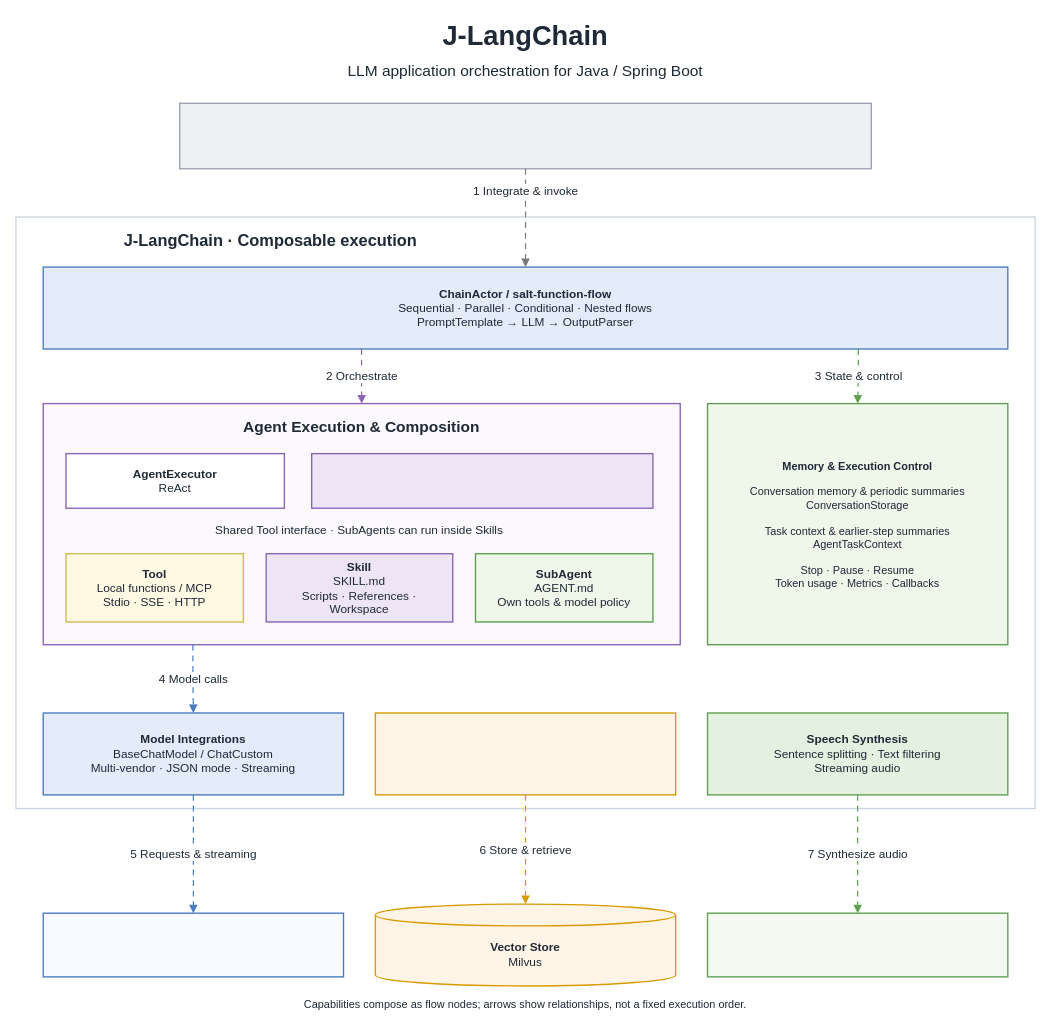
Image size: 1052x1030. Some labels were removed from this diagram. The centre of each missing label's shape, as x and y in pixels:
Cloud Models / Local Inference / Gateways OpenAI · Qwen · DeepSeek · Ollama · …: point (193, 944)
McpAgentExecutor Function Calling: point (482, 481)
RAG PDF / Word / OCR → Split → Embed Retrieve → Augment context: point (525, 753)
Speech Services Alibaba Cloud · Doubao: point (857, 944)
Your Application AI assistants · Knowledge Q&A · Automated workflows: point (525, 135)
